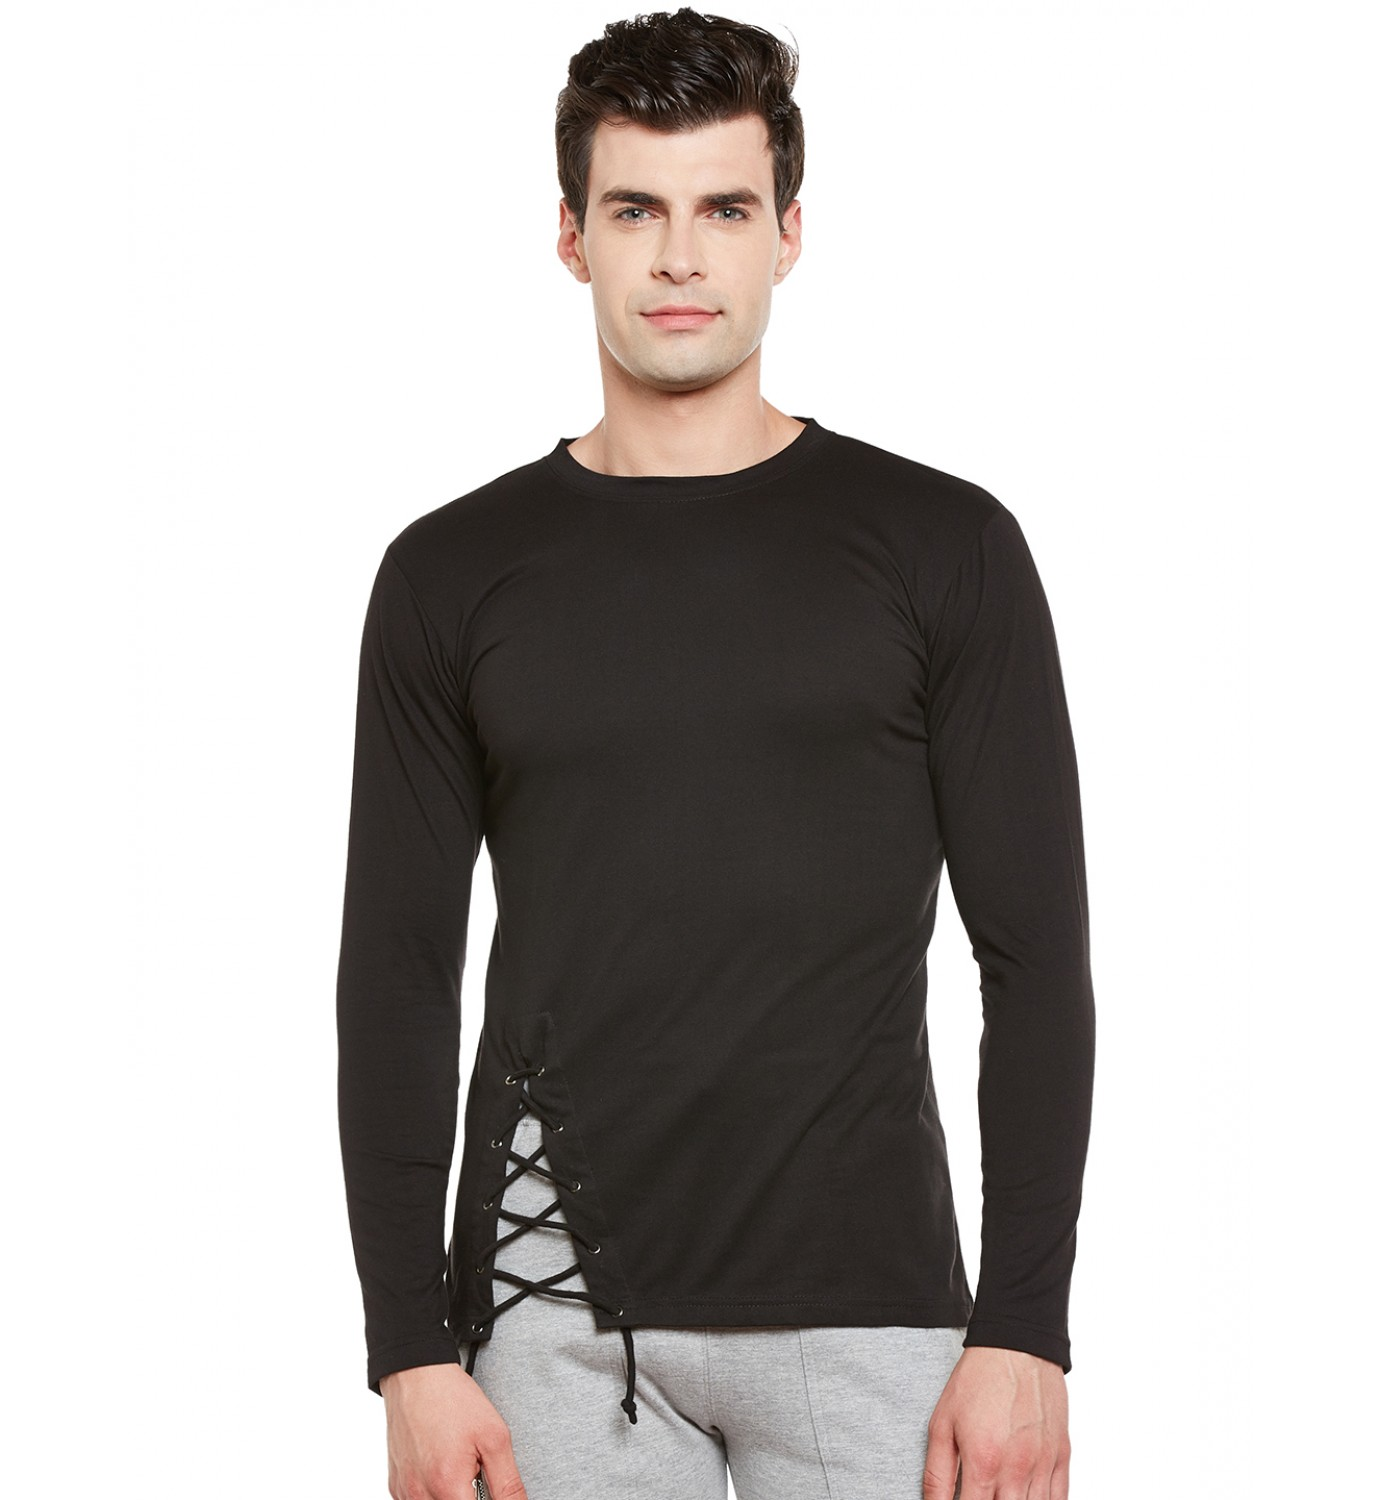T-Shirt: (337, 423, 1140, 1371)
